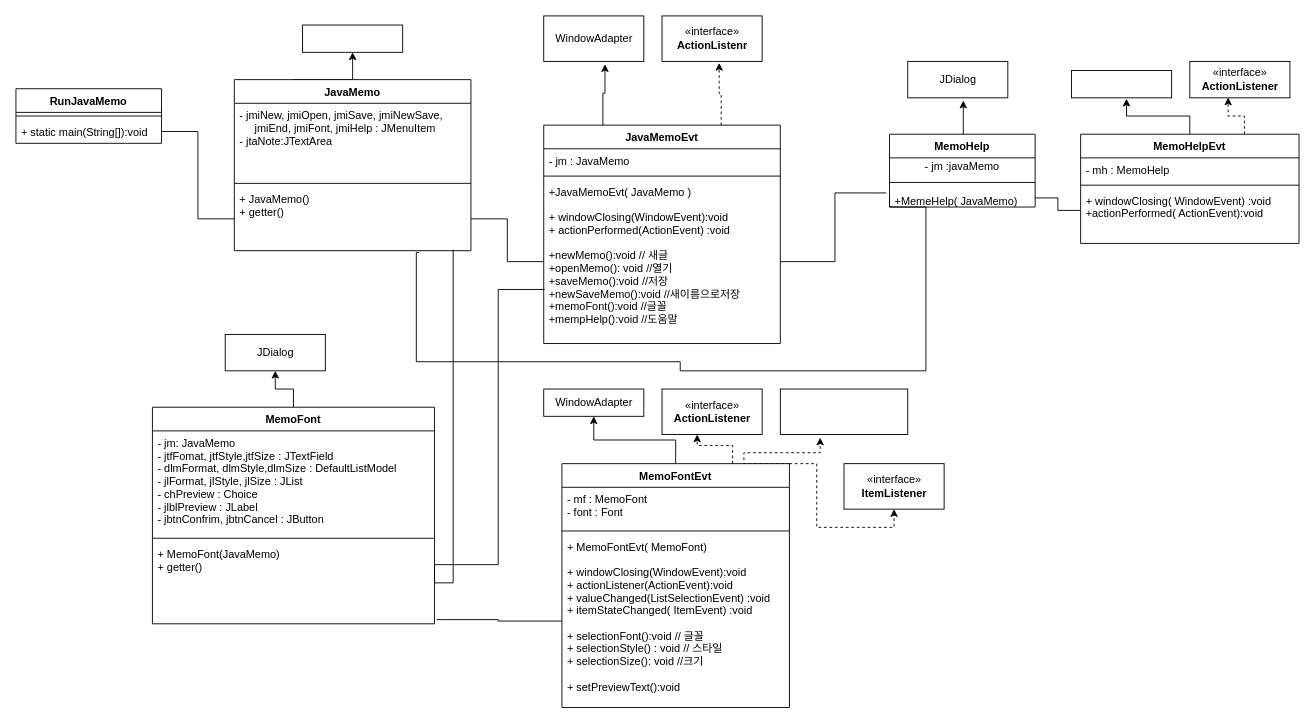
The diagram is 1315 pixels wide and 726 high, and some of its shapes have lost their labels. Here are the shapes that lost their labels. From the top down, the centre of each, then its label:
At point (352, 38): "JFrame".
At point (1121, 84): "WindowAdater".
At point (843, 411): "«interface» ListSelectionListener".
